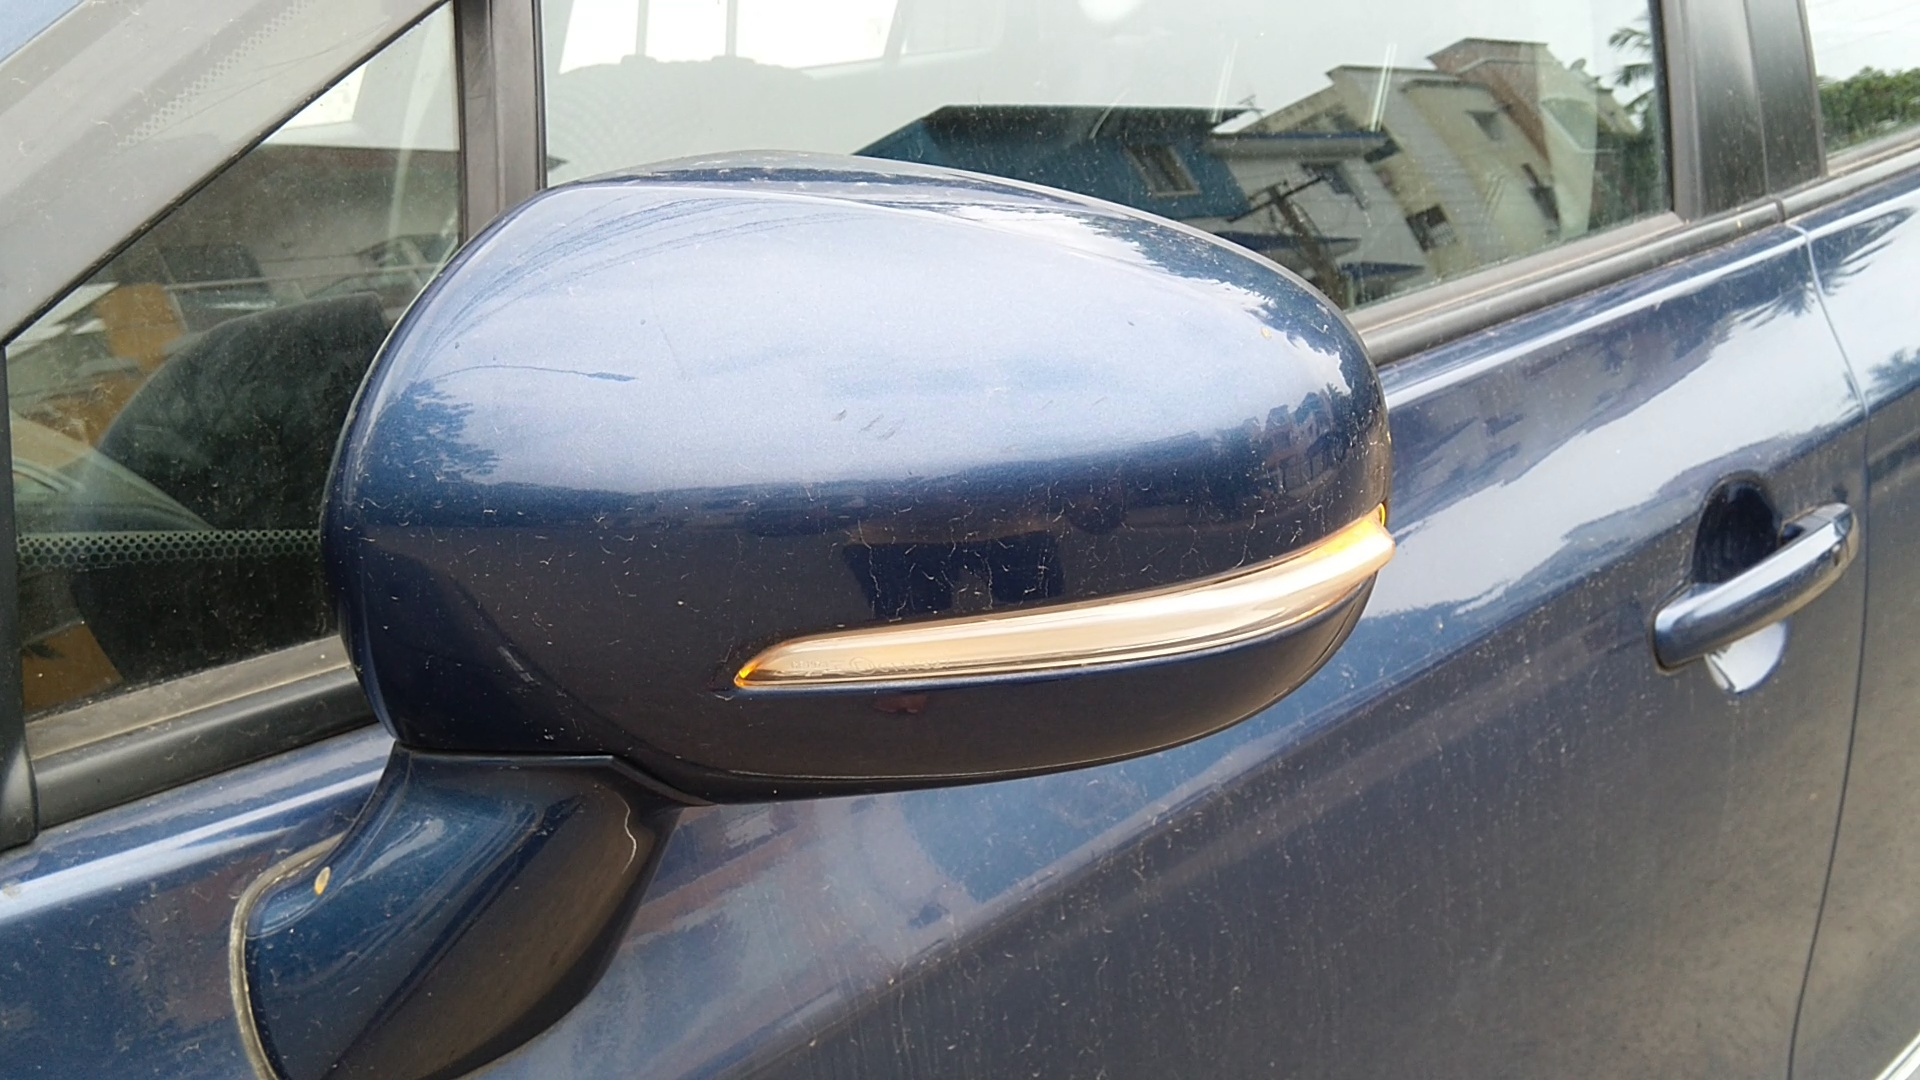ovr_mirror: (211, 131, 1404, 1080)
